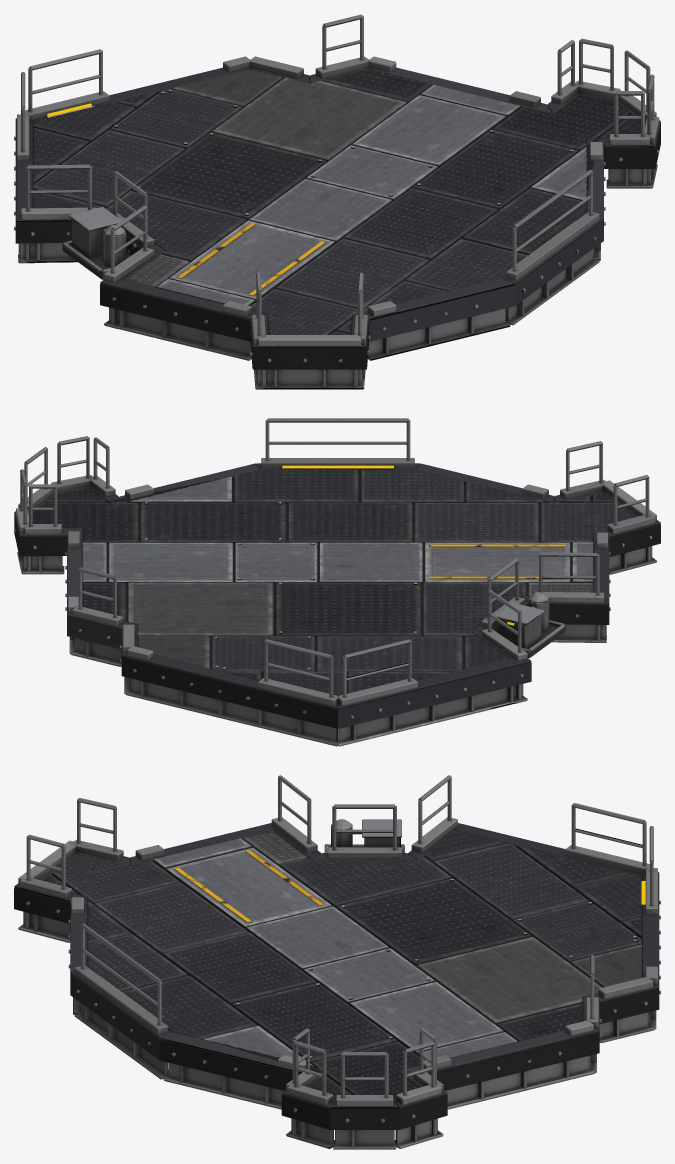
The model's file is nodexeus-set-deck-f.glb.
The picture shows the model from 3 angles, top to bottom: view 1: azimuth 30°, elevation 25°; view 2: azimuth 150°, elevation 25°; view 3: azimuth 270°, elevation 25°; orthographic projection. The views are drawn at different scales.
Parts seen in each view (by area): view 1: set-deck-f; view 2: set-deck-f; view 3: set-deck-f.
Part boxes in pixels (x1=…): set-deck-f: x1=14, y1=14, x2=660, y2=389; set-deck-f: x1=14, y1=418, x2=660, y2=746; set-deck-f: x1=14, y1=775, x2=660, y2=1149.
Size of the model in its own units: 11.87 by 1.86 by 11.3.
1 material, 1 textured.
